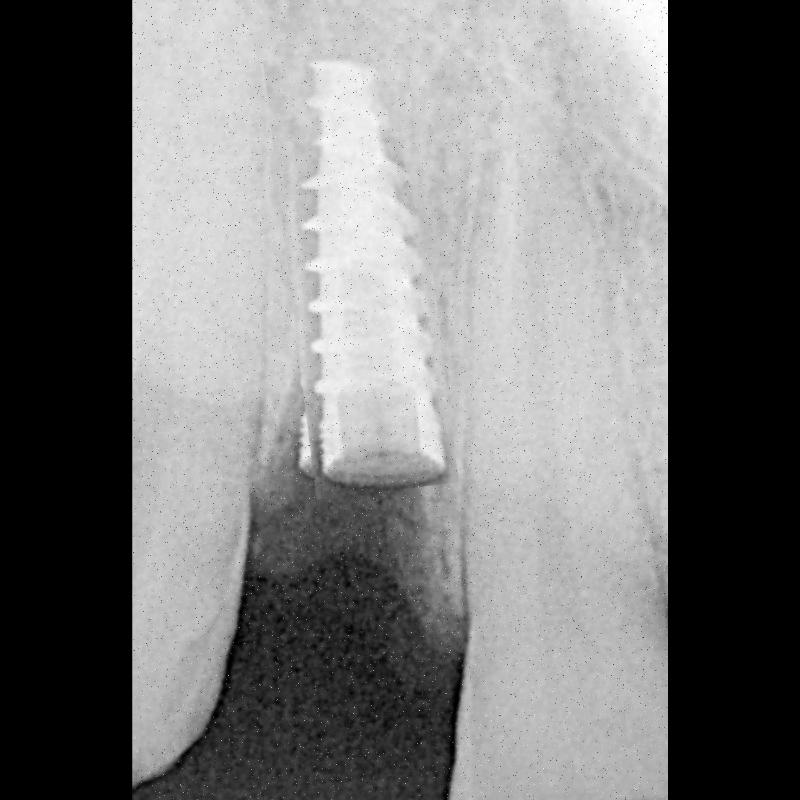NORIS: (276, 46, 446, 496)
